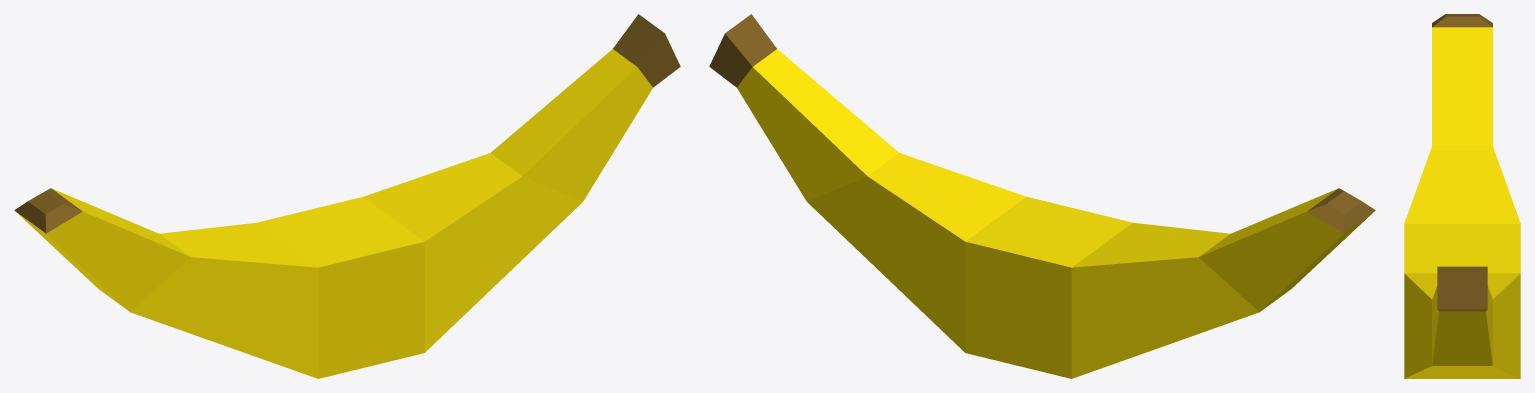
File: Banana.fbx
The picture shows the model from 3 angles, left to right: view 1: azimuth 30°, elevation 25°; view 2: azimuth 150°, elevation 25°; view 3: azimuth 270°, elevation 25°; orthographic projection. The views are drawn at different scales.
Parts seen in each view (by area): view 1: Cube; view 2: Cube; view 3: Cube.
Part boxes in pixels (x1,y1,x2,y2): Cube: (14,14,680,378); Cube: (709,14,1375,378); Cube: (1404,14,1520,378).
Bounding box in the file's own units: 1198 × 438 × 200.
